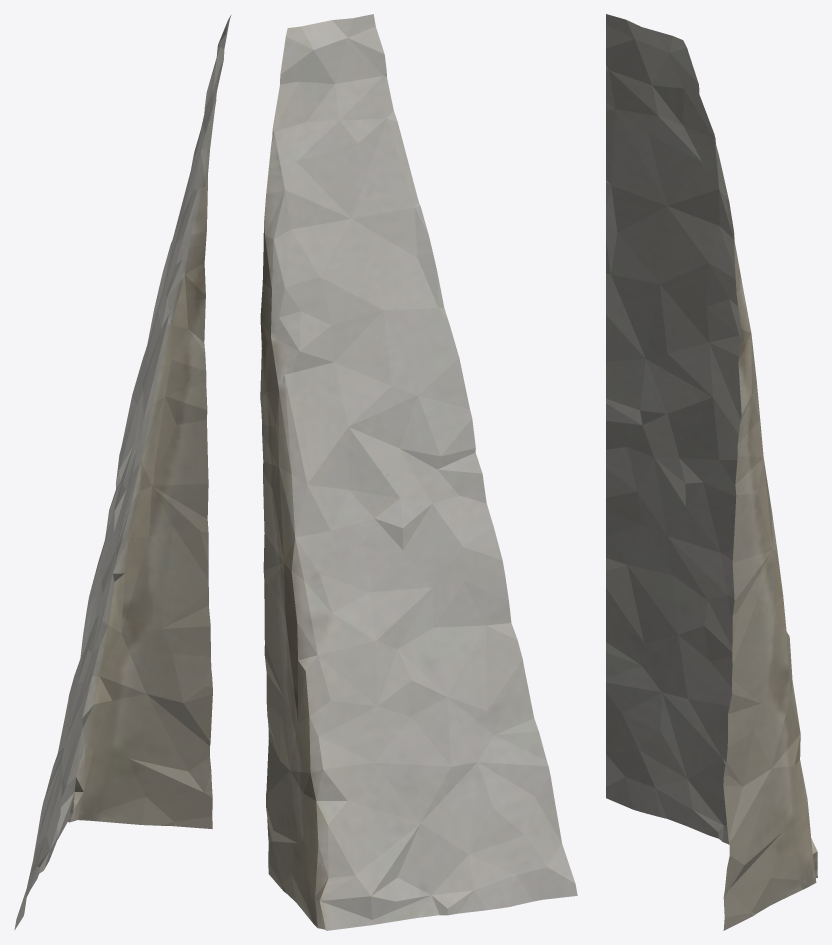
3 renders of one model, left to right at view 1: azimuth 30°, elevation 25°; view 2: azimuth 150°, elevation 25°; view 3: azimuth 270°, elevation 25°, orthographic. The views are drawn at different scales.
Bounding box in the file's own units: 0.2676 × 0.8374 × 0.1804.
Materials: 1 (1 with a texture image).
